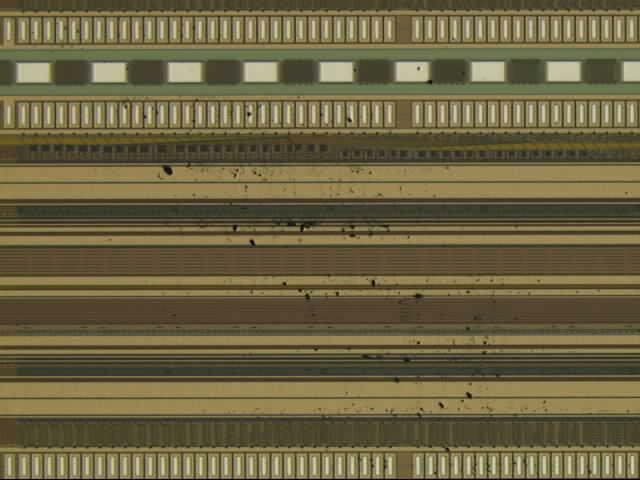PO CONTAMINATION: (119, 64, 556, 458)
